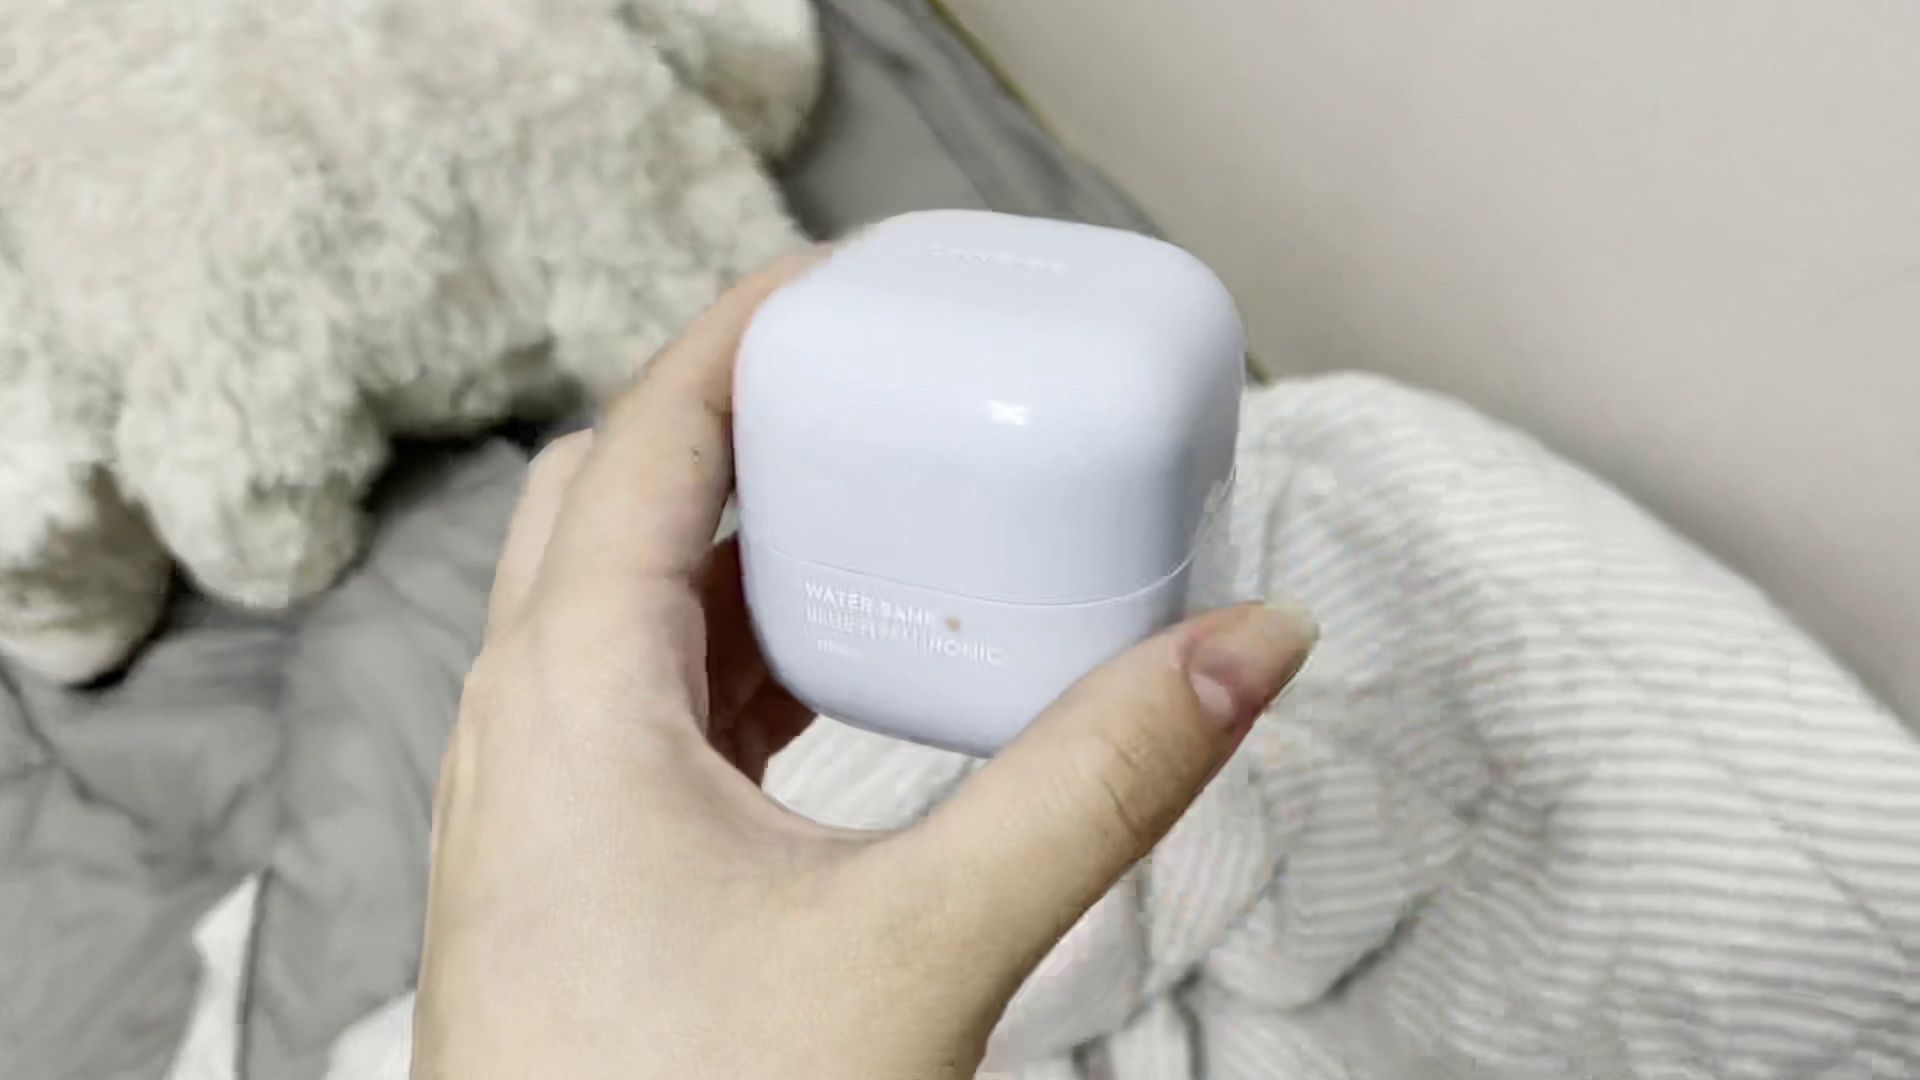cream: (727, 204, 1251, 754)
